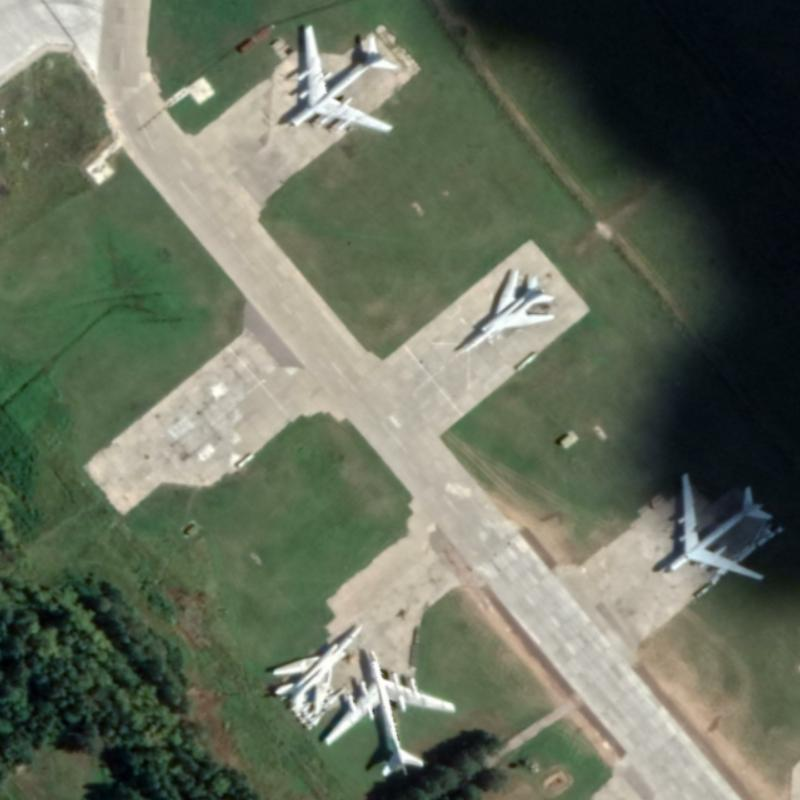A12: (269, 622, 363, 716), (458, 266, 556, 353)
A17: (321, 647, 458, 778), (285, 22, 398, 135), (661, 470, 774, 582)
